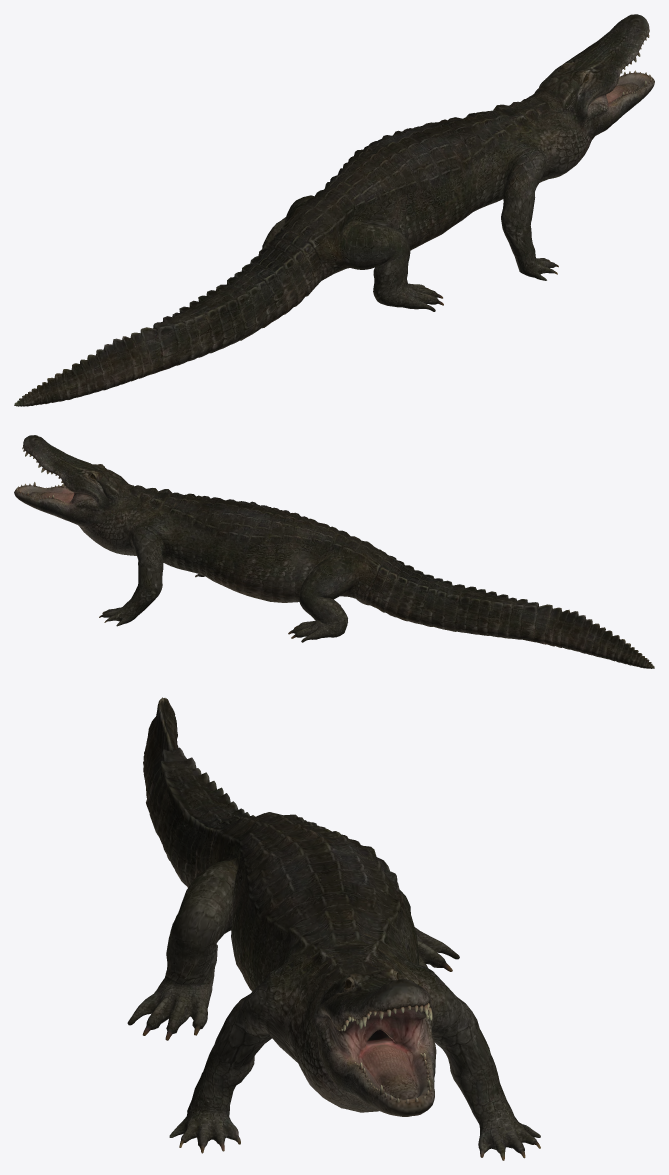
Rendered from jacare.glb.
The picture shows the model from 3 angles, top to bottom: view 1: azimuth 30°, elevation 25°; view 2: azimuth 150°, elevation 25°; view 3: azimuth 270°, elevation 25°; orthographic projection. The views are drawn at different scales.
Visible parts, largest first — view 1: American_Alligator_applied_clean_M_American_Alligator_0_M_Am; view 2: American_Alligator_applied_clean_M_American_Alligator_0_M_Am; view 3: American_Alligator_applied_clean_M_American_Alligator_0_M_Am.
Boxes of the visible parts, x1,y1,x2,y2 form: American_Alligator_applied_clean_M_American_Alligator_0_M_Am: (14,14,654,406); American_Alligator_applied_clean_M_American_Alligator_0_M_Am: (14,435,654,668); American_Alligator_applied_clean_M_American_Alligator_0_M_Am: (127,697,540,1160).
Bounding box in the file's own units: 4.3 × 1 × 1.33.
1 material, 1 textured.
